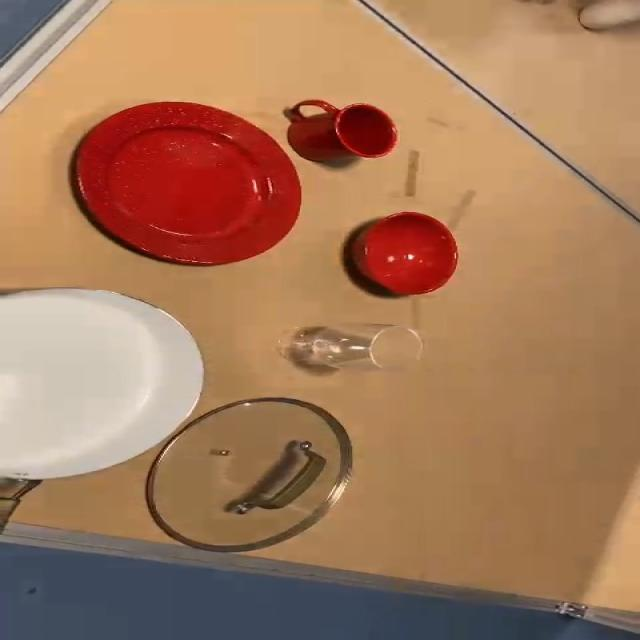Bowl: (352, 211, 465, 299)
Glass: (280, 320, 420, 374)
Plate: (69, 101, 308, 270)
cup: (278, 96, 407, 162)
pot: (5, 283, 212, 553)
